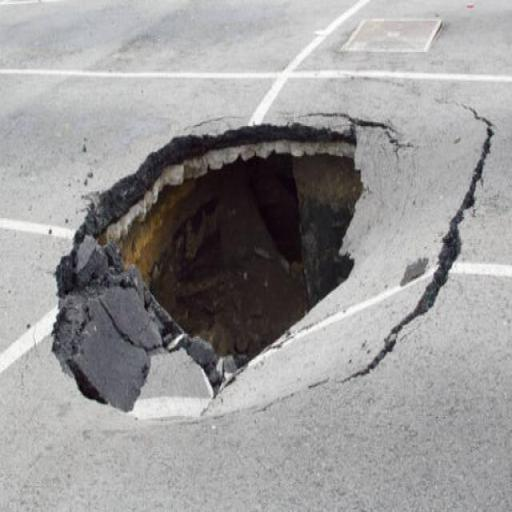Concentric_Crack: (0, 111, 512, 420)
